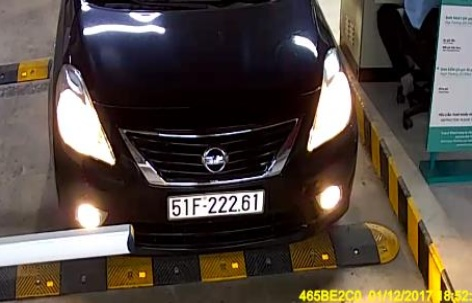plate: (164, 190, 267, 220)
